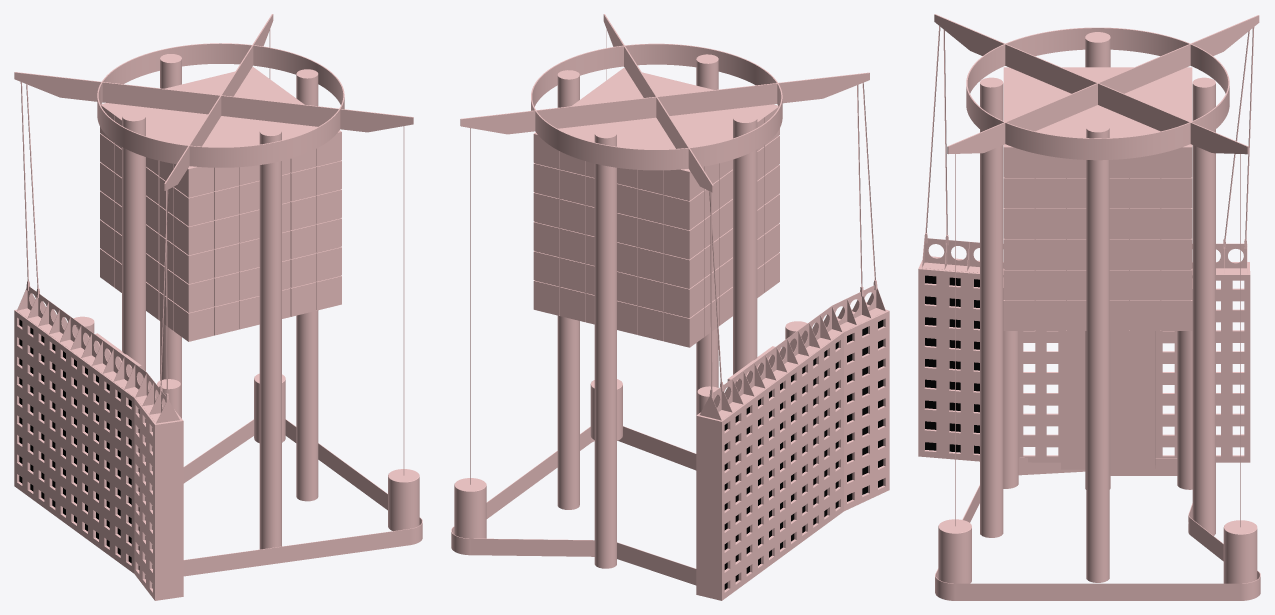
File: 01-weightofculture.glb
3 renders of one model, left to right at view 1: azimuth 30°, elevation 25°; view 2: azimuth 150°, elevation 25°; view 3: azimuth 270°, elevation 25°, orthographic. The views are drawn at different scales.
Parts seen in each view (by area): view 1: Mesh_29.001; view 2: Mesh_29.001; view 3: Mesh_29.001.
Boxes of the visible parts, x1,y1,x2,y2 form: Mesh_29.001: (14,14,422,600); Mesh_29.001: (451,14,889,600); Mesh_29.001: (918,14,1260,600).
Size of what is drawn, in the model's own units: 51155 by 74027 by 50925.
